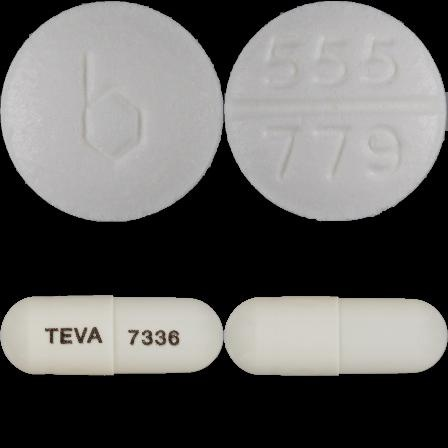60687-105: (0, 0, 224, 224)
